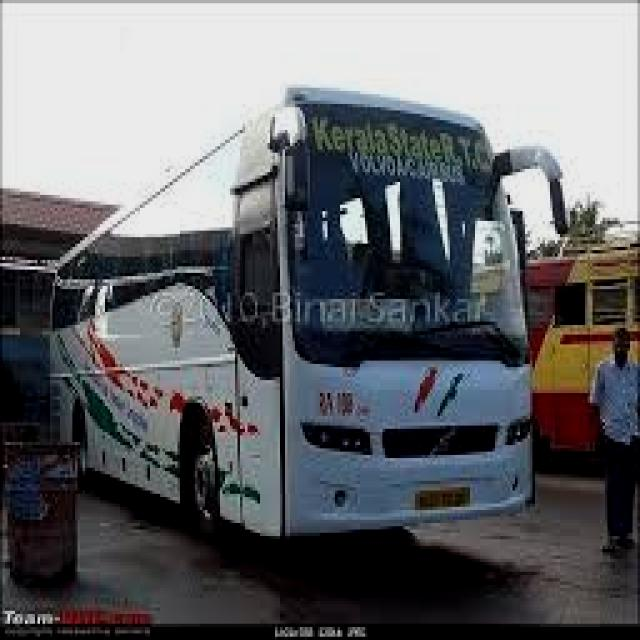bus: (49, 36, 575, 559)
